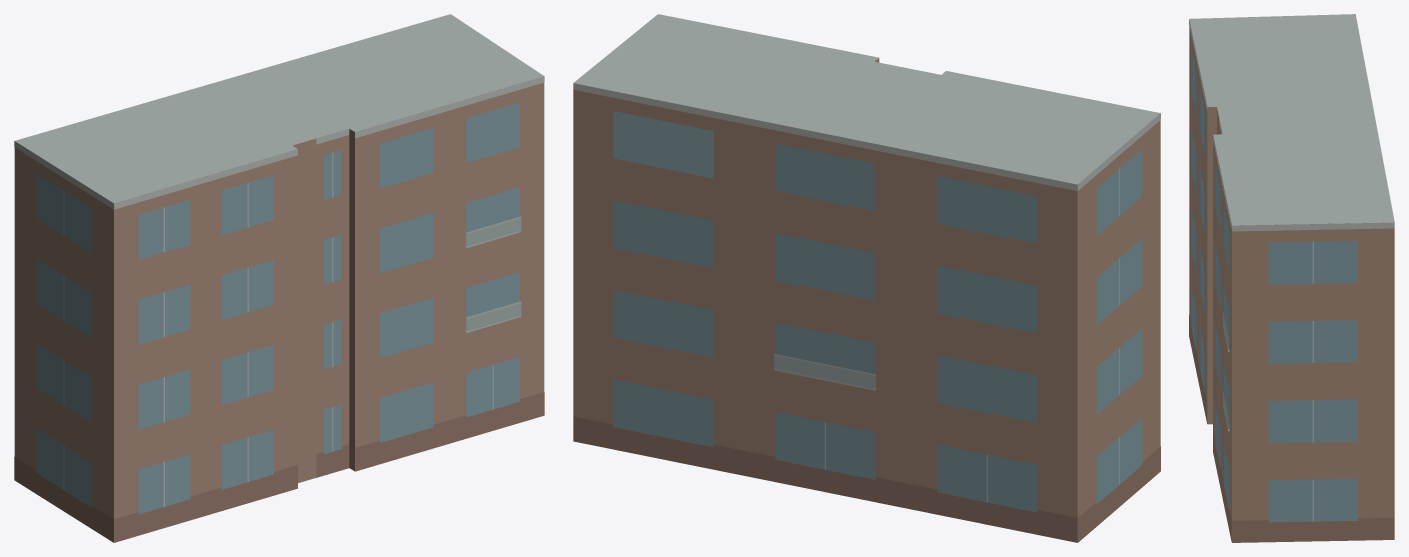
The model's file is survey-upis-32633181.glb.
The picture shows the model from 3 angles, left to right: view 1: azimuth 30°, elevation 25°; view 2: azimuth 150°, elevation 25°; view 3: azimuth 270°, elevation 25°; orthographic projection. The views are drawn at different scales.
Visible parts, largest first — view 1: survey-upis-32633181.tmp; view 2: survey-upis-32633181.tmp; view 3: survey-upis-32633181.tmp.
Part boxes in pixels (box(x1,y1,x2,y2)): survey-upis-32633181.tmp: box(14, 14, 544, 542); survey-upis-32633181.tmp: box(573, 14, 1160, 542); survey-upis-32633181.tmp: box(1189, 14, 1394, 542).
Bounding box in the file's own units: 18.89 × 13.2 × 7.77.
